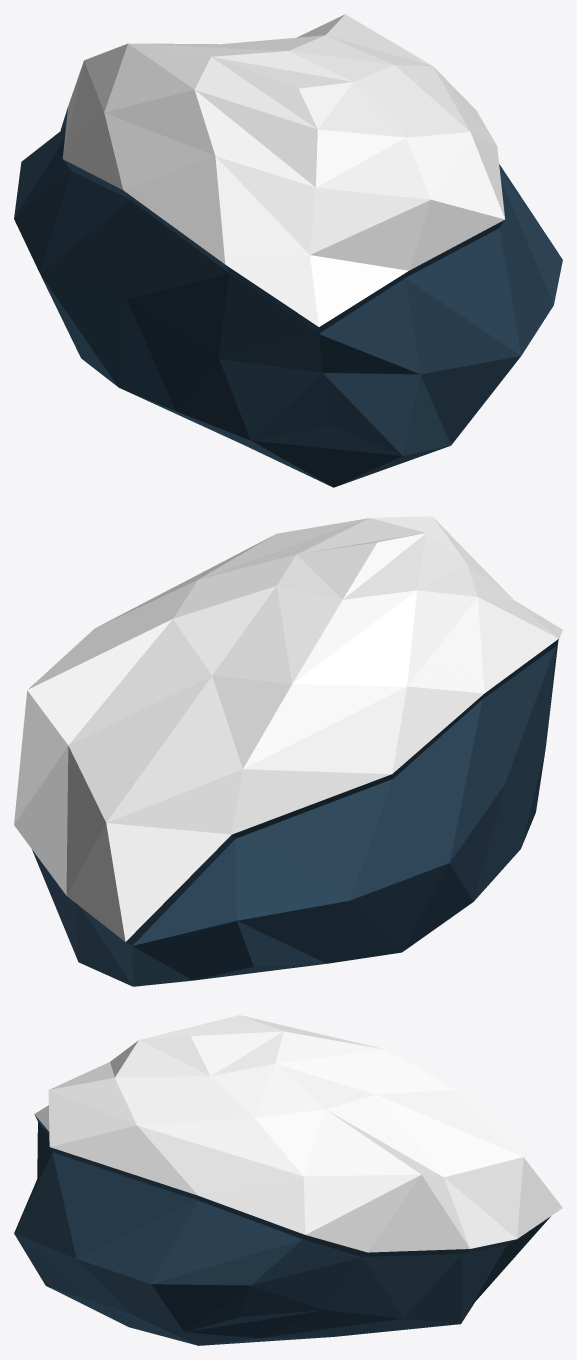
The model's file is Stein3.FBX.
3 renders of one model, top to bottom at view 1: azimuth 30°, elevation 25°; view 2: azimuth 150°, elevation 25°; view 3: azimuth 270°, elevation 25°, orthographic. The views are drawn at different scales.
Visible parts, largest first — view 1: GeoSphere012; view 2: GeoSphere012; view 3: GeoSphere012.
Boxes of the visible parts, left/top/right/bottom form: GeoSphere012: left=14, top=14, right=562, bottom=487; GeoSphere012: left=14, top=516, right=562, bottom=986; GeoSphere012: left=14, top=1015, right=562, bottom=1345.
Size of the model in its own units: 24.19 by 20.28 by 36.18.
